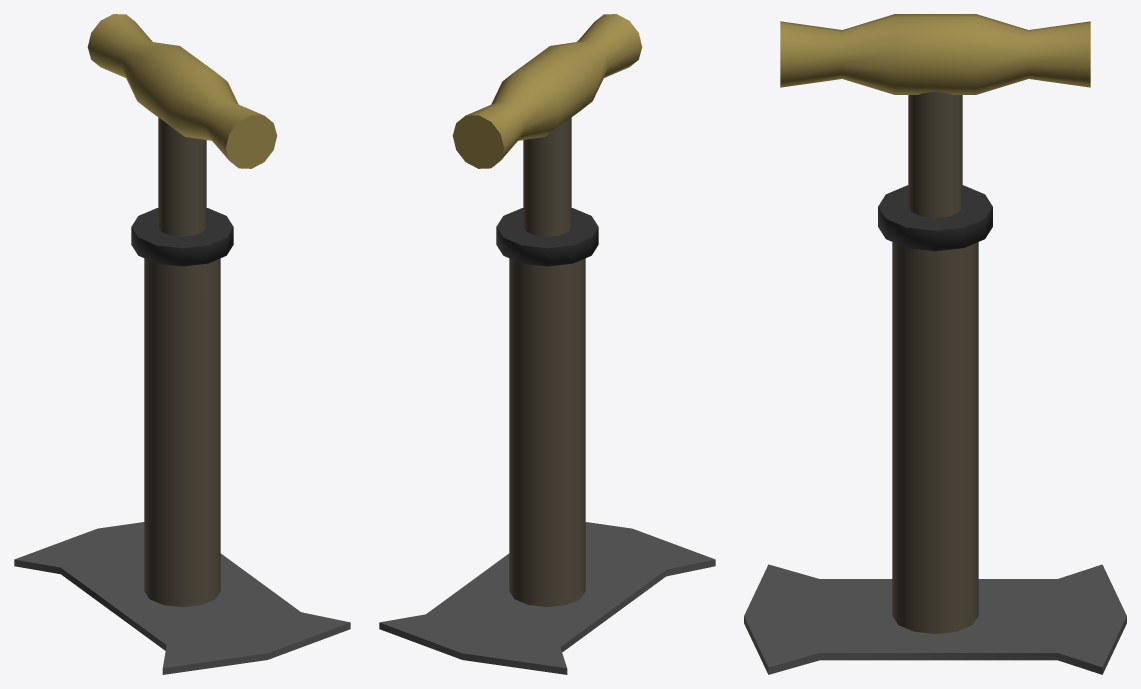
File: Bomba_Regeneracion_vida.fbx
The picture shows the model from 3 angles, left to right: view 1: azimuth 30°, elevation 25°; view 2: azimuth 150°, elevation 25°; view 3: azimuth 270°, elevation 25°; orthographic projection. The views are drawn at different scales.
Visible parts, largest first — view 1: Bomba de aire; view 2: Bomba de aire; view 3: Bomba de aire.
Boxes of the visible parts, x1,y1,x2,y2 form: Bomba de aire: (14,14,350,674); Bomba de aire: (379,14,715,674); Bomba de aire: (744,14,1126,674).
Size of the model in its own units: 168 by 459 by 263.
